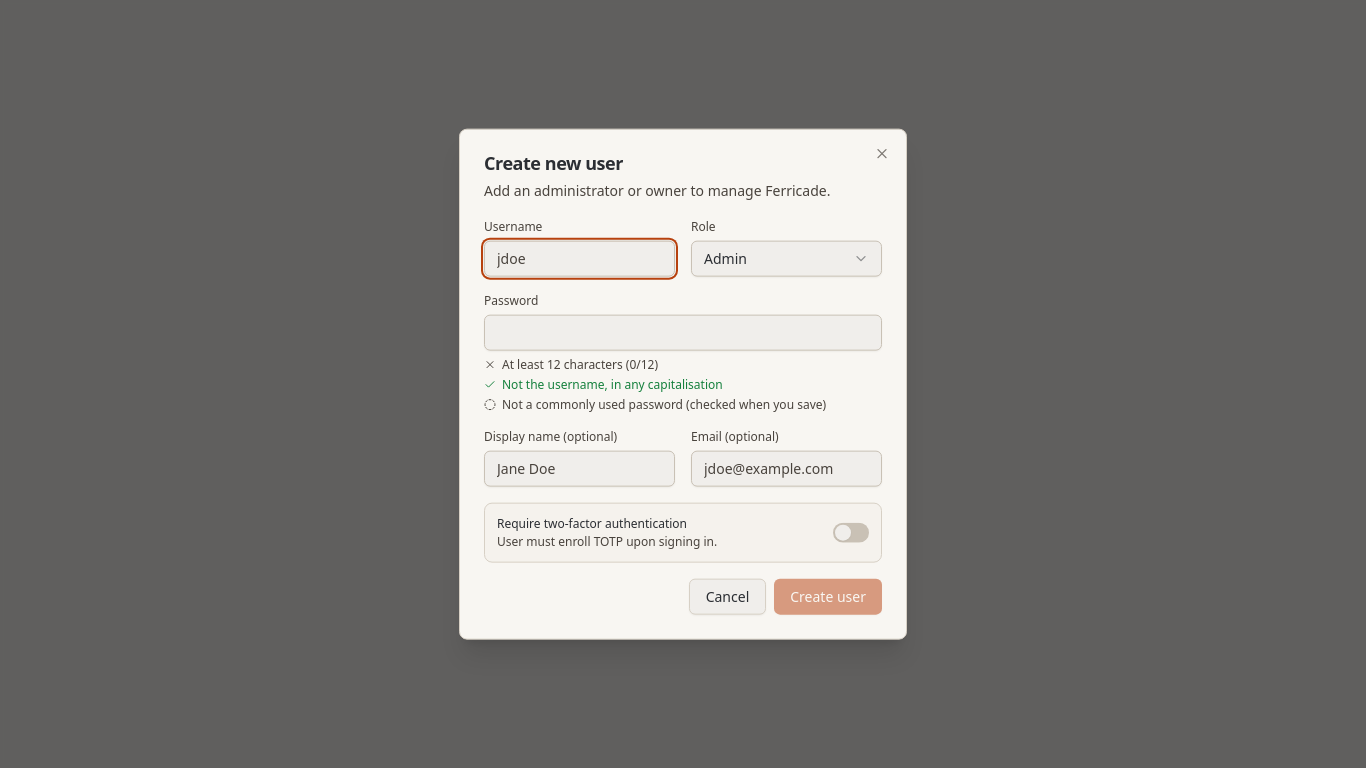
Test case: role picker › create dialog offers User with its description
Step 1. Press ArrowDown in the dropdown named "Role", box [691, 240, 882, 276]
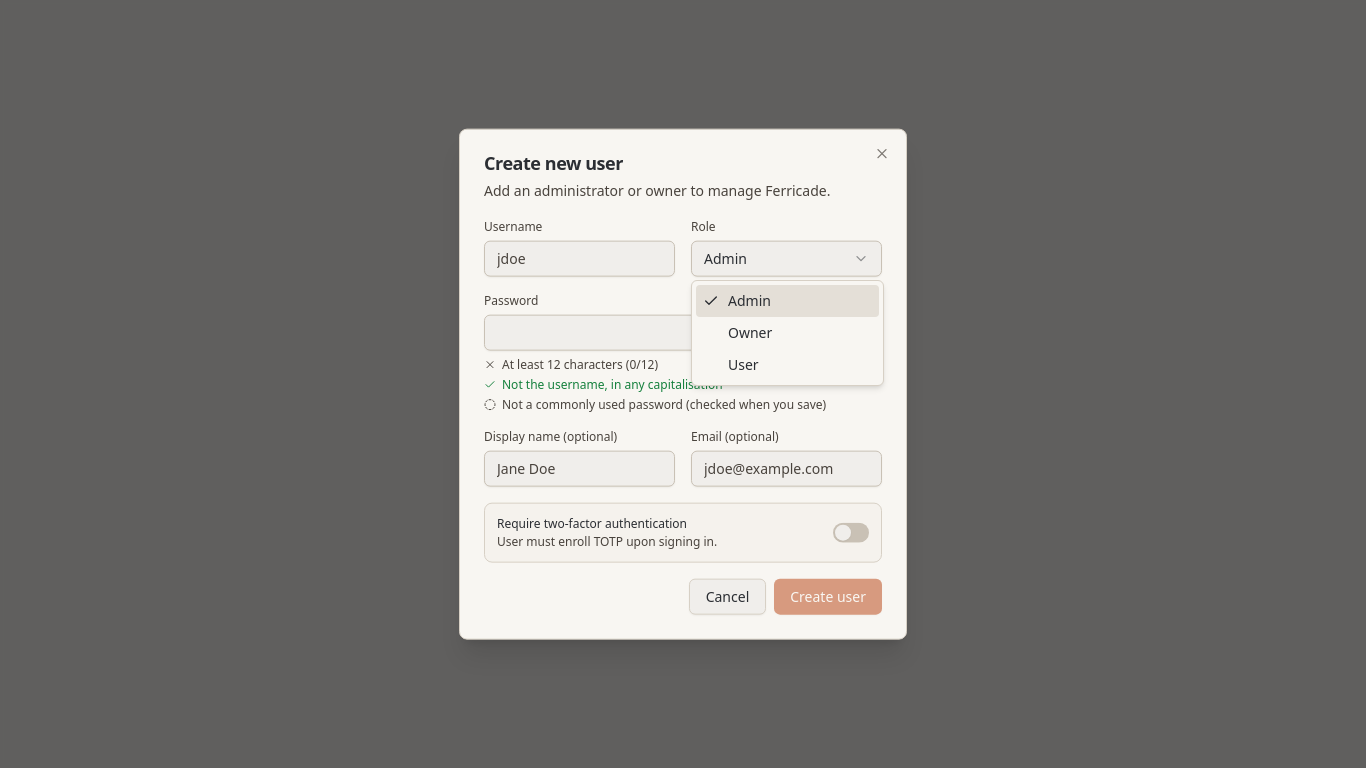
Step 2. Click the option "User" → (743, 364), box [728, 355, 759, 374]
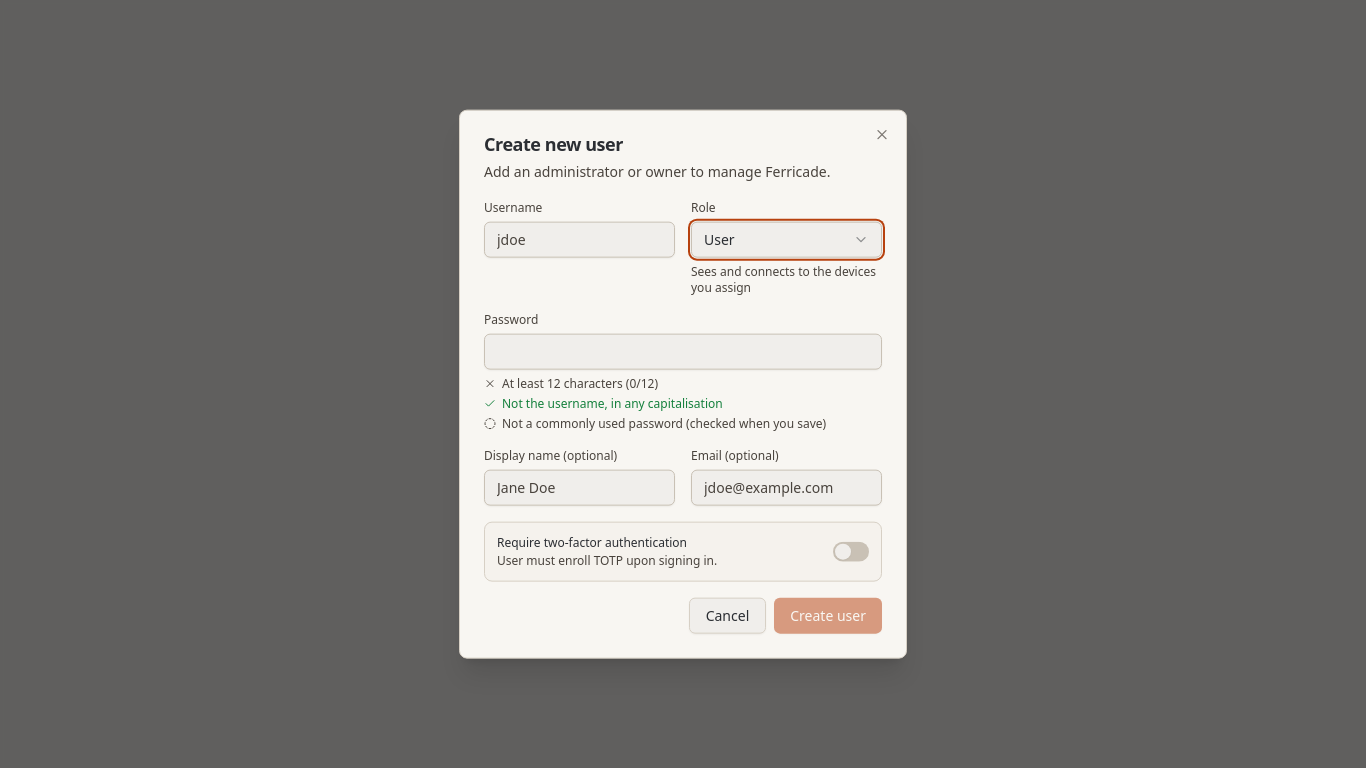
expect the text "Sees and connects to the devices you assign" is shown: met, box [691, 263, 882, 295]
